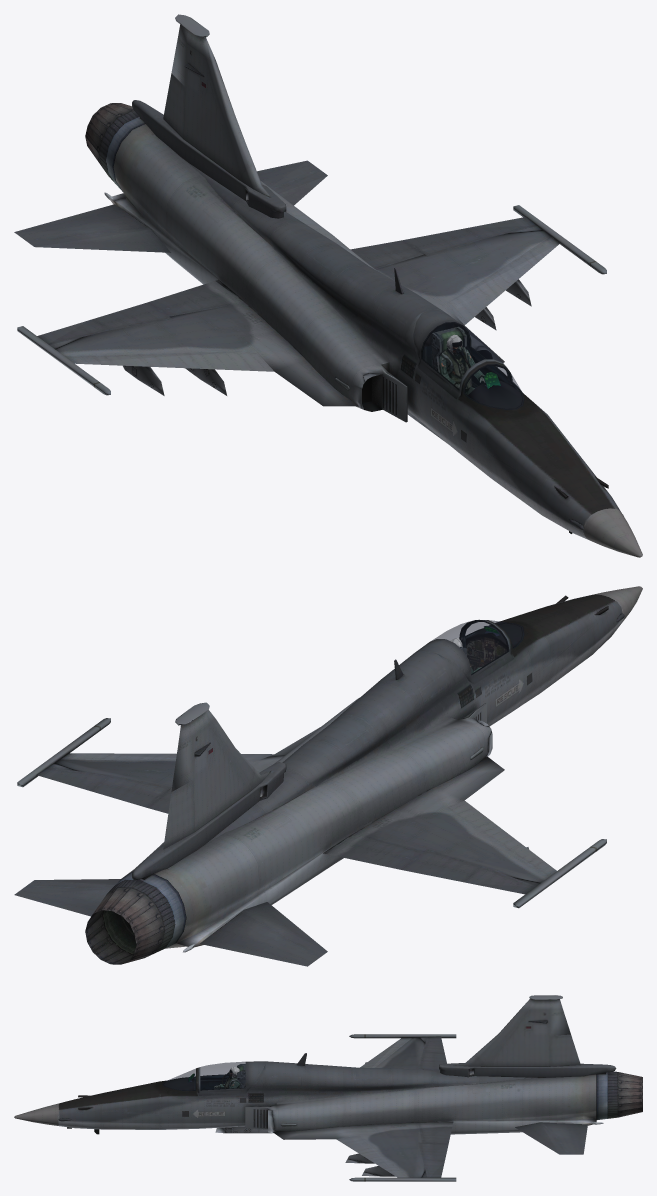
The model's file is F-20_Tigershark.dat.obj.
The picture shows the model from 3 angles, top to bottom: view 1: azimuth 30°, elevation 25°; view 2: azimuth 150°, elevation 25°; view 3: azimuth 270°, elevation 25°; orthographic projection. The views are drawn at different scales.
Parts seen in each view (by area): view 1: F-20_LOD0, F-20_Glass_Canopy01, F-20_ElevatorR01, F-20_VoletR01, F-20_VoletL01, F-20_Canopy01, F-20_FlapR02, F-20_ElevatorL01, F-20_Pilot01, F-20_FlapL02, F-20_FlapR01, F-20_FlapL01 (+4 smaller); view 2: F-20_LOD0, F-20_EngineL01, F-20_ElevatorR01, F-20_Glass_Canopy01, F-20_ElevatorL01, F-20_FlapR02, F-20_VoletR01, F-20_Canopy01, F-20_FlapL01, F-20_FlapR01, F-20_RudderL01, F-20_VoletL01 (+2 smaller); view 3: F-20_LOD0, F-20_Glass_Canopy01, F-20_ElevatorL01, F-20_EngineL01, F-20_Canopy01, F-20_VoletL01, F-20_RudderL01, F-20_FlapL02, F-20_FlapL01, F-20_FlapR01, F-20_VoletR01, F-20_AileronL01 (+2 smaller).
Boxes of the visible parts, <box> form: F-20_LOD0: <box>17,14,642,557</box>; F-20_Glass_Canopy01: <box>421,322,524,409</box>; F-20_ElevatorR01: <box>14,204,170,252</box>; F-20_VoletR01: <box>65,351,273,371</box>; F-20_VoletL01: <box>445,237,559,325</box>; F-20_Canopy01: <box>413,309,509,399</box>; F-20_FlapR02: <box>147,281,244,316</box>; F-20_ElevatorL01: <box>257,160,327,205</box>; F-20_Pilot01: <box>439,334,485,394</box>; F-20_FlapL02: <box>350,240,423,269</box>; F-20_FlapR01: <box>91,302,172,330</box>; F-20_FlapL01: <box>403,228,482,256</box>; F-20_LOD0: <box>17,586,642,952</box>; F-20_EngineL01: <box>85,887,164,964</box>; F-20_ElevatorR01: <box>200,902,327,966</box>; F-20_Glass_Canopy01: <box>432,620,524,674</box>; F-20_ElevatorL01: <box>14,879,120,916</box>; F-20_FlapR02: <box>327,832,423,869</box>; F-20_VoletR01: <box>446,800,556,877</box>; F-20_Canopy01: <box>417,620,513,684</box>; F-20_FlapL01: <box>91,775,171,807</box>; F-20_FlapR01: <box>403,849,483,882</box>; F-20_RudderL01: <box>163,780,194,849</box>; F-20_VoletL01: <box>60,753,273,761</box>; F-20_LOD0: <box>14,995,617,1181</box>; F-20_Glass_Canopy01: <box>162,1061,245,1090</box>; F-20_ElevatorL01: <box>515,1122,587,1154</box>; F-20_EngineL01: <box>618,1072,642,1117</box>; F-20_Canopy01: <box>198,1061,265,1095</box>; F-20_VoletL01: <box>336,1135,409,1177</box>; F-20_RudderL01: <box>550,1034,580,1066</box>; F-20_FlapL02: <box>418,1122,452,1143</box>; F-20_FlapL01: <box>418,1142,448,1161</box>; F-20_FlapR01: <box>418,1051,446,1069</box>; F-20_VoletR01: <box>360,1038,411,1067</box>; F-20_AileronL01: <box>423,1160,444,1177</box>.
Size of the model in its own units: 7.8 by 3.45 by 14.28.
